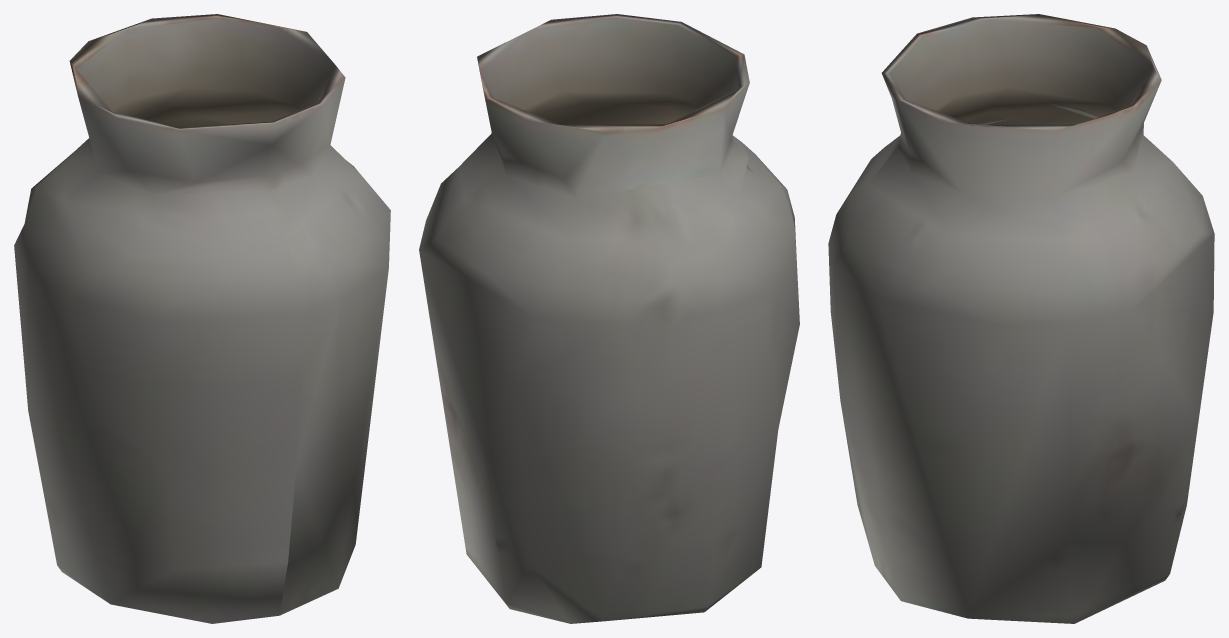
File: vase_b.glb
3 views of the same model, side by side, from view 1: azimuth 30°, elevation 25°; view 2: azimuth 150°, elevation 25°; view 3: azimuth 270°, elevation 25° (orthographic).
Parts seen in each view (by area): view 1: vase_b; view 2: vase_b; view 3: vase_b.
Boxes of the visible parts, x1=… form: vase_b: x1=14, y1=14, x2=390, y2=623; vase_b: x1=419, y1=14, x2=799, y2=623; vase_b: x1=828, y1=14, x2=1214, y2=623.
Size of the model in its own units: 0.216 by 0.3053 by 0.2168.
1 material, 1 textured.
